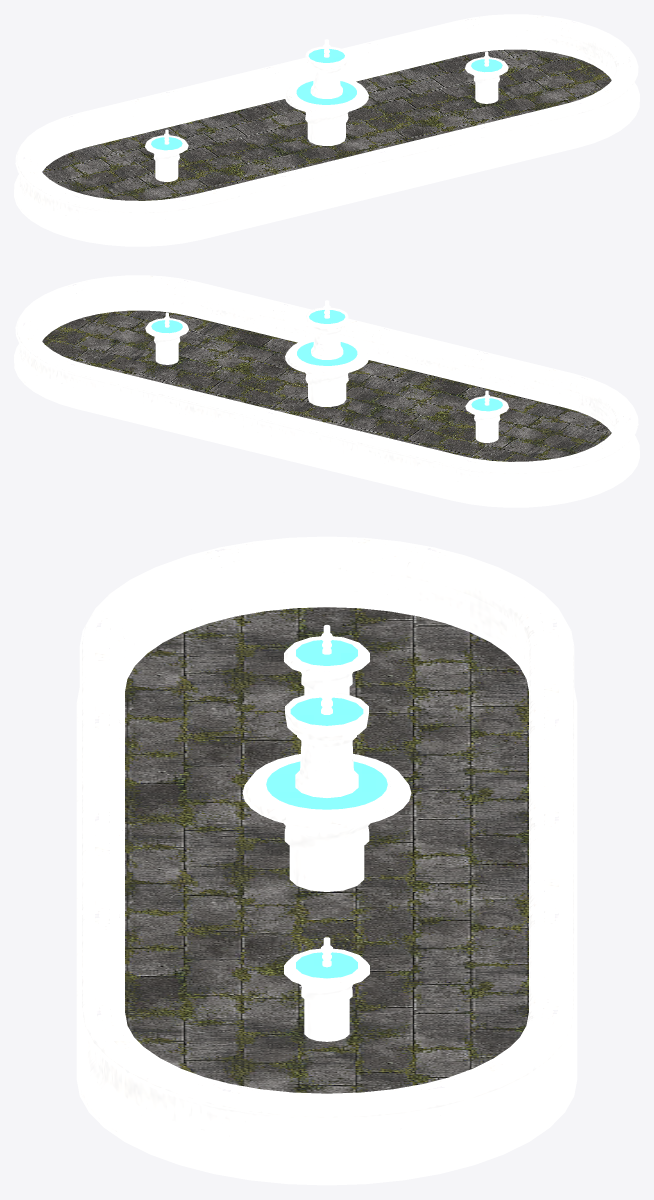
Rendered from sm0041_fountain01.fbx.
3 renders of one model, top to bottom at view 1: azimuth 30°, elevation 25°; view 2: azimuth 150°, elevation 25°; view 3: azimuth 270°, elevation 25°, orthographic. The views are drawn at different scales.
Parts seen in each view (by area): view 1: LOD_1_Group_0_Sub_3__sm0041_fountain01_A_mat, LOD_1_Group_0_Sub_4__m02_pavement03_Mat, LOD_1_Group_0_Sub_2__sm0041_fountain01_A_dissolve_mat, LOD_1_Group_0_Sub_1__m02_water; view 2: LOD_1_Group_0_Sub_3__sm0041_fountain01_A_mat, LOD_1_Group_0_Sub_4__m02_pavement03_Mat, LOD_1_Group_0_Sub_2__sm0041_fountain01_A_dissolve_mat, LOD_1_Group_0_Sub_1__m02_water; view 3: LOD_1_Group_0_Sub_4__m02_pavement03_Mat, LOD_1_Group_0_Sub_3__sm0041_fountain01_A_mat, LOD_1_Group_0_Sub_2__sm0041_fountain01_A_dissolve_mat, LOD_1_Group_0_Sub_1__m02_water.
Boxes of the visible parts, box(x1,y1,x2,y2) form: LOD_1_Group_0_Sub_3__sm0041_fountain01_A_mat: box(14, 14, 639, 246); LOD_1_Group_0_Sub_4__m02_pavement03_Mat: box(42, 49, 611, 200); LOD_1_Group_0_Sub_2__sm0041_fountain01_A_dissolve_mat: box(144, 39, 508, 181); LOD_1_Group_0_Sub_1__m02_water: box(151, 49, 502, 150); LOD_1_Group_0_Sub_3__sm0041_fountain01_A_mat: box(14, 275, 639, 507); LOD_1_Group_0_Sub_4__m02_pavement03_Mat: box(42, 310, 611, 461); LOD_1_Group_0_Sub_2__sm0041_fountain01_A_dissolve_mat: box(145, 300, 509, 442); LOD_1_Group_0_Sub_1__m02_water: box(151, 310, 502, 411); LOD_1_Group_0_Sub_4__m02_pavement03_Mat: box(125, 607, 528, 1093); LOD_1_Group_0_Sub_3__sm0041_fountain01_A_mat: box(76, 536, 577, 1185); LOD_1_Group_0_Sub_2__sm0041_fountain01_A_dissolve_mat: box(242, 625, 411, 1041); LOD_1_Group_0_Sub_1__m02_water: box(266, 640, 387, 978).
Bounding box in the file's own units: 1047 × 182 × 383.
